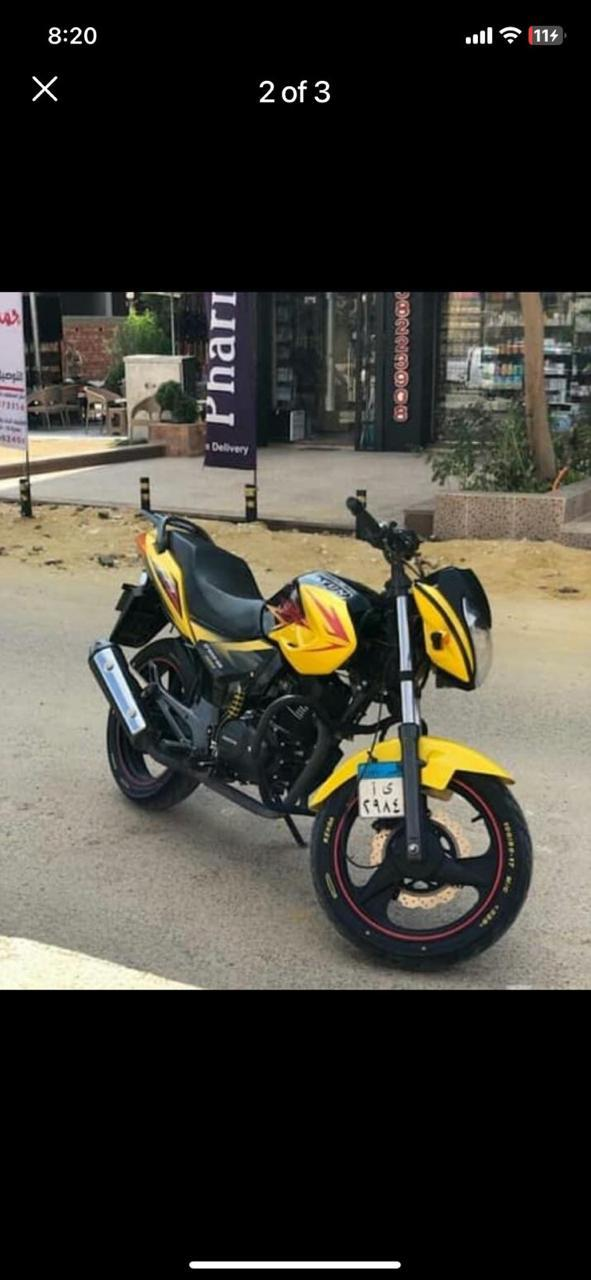License Plate: (359, 764, 406, 817)
